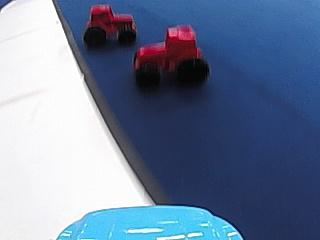Tracktor: (128, 23, 211, 87), (82, 3, 138, 49)
